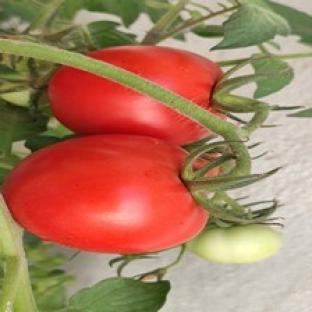Tomato: (3, 134, 208, 253), (49, 67, 210, 144), (187, 225, 281, 263)
